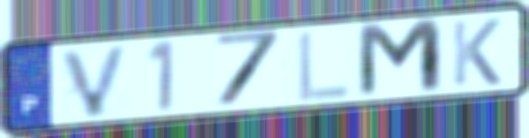1: (145, 38, 176, 115)
7: (212, 28, 285, 112)
K: (448, 16, 504, 88)
L: (295, 27, 353, 104)
M: (354, 16, 448, 102)
V: (57, 42, 134, 121)
